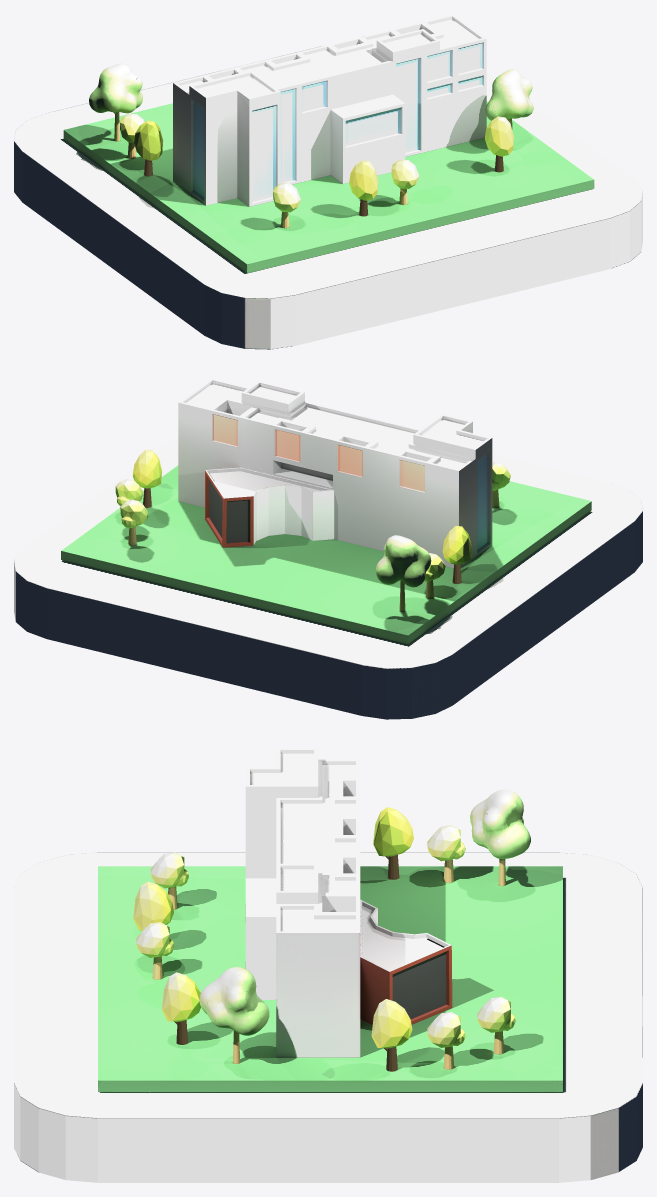
3 renders of one model, top to bottom at view 1: azimuth 30°, elevation 25°; view 2: azimuth 150°, elevation 25°; view 3: azimuth 270°, elevation 25°, orthographic. The views are drawn at different scales.
Parts seen in each view (by area): view 1: Cube, 文學院1, Cylinder.298, Cylinder.218; view 2: Cube, 文學院1, Cylinder.298, Cylinder.218; view 3: Cube, Cylinder.298, 文學院1, Cylinder.218.
Part boxes in pixels (x1=…): Cube: x1=14, y1=35, x2=642, y2=349; 文學院1: x1=173, y1=14, x2=486, y2=206; Cylinder.298: x1=63, y1=101, x2=594, y2=273; Cylinder.218: x1=89, y1=63, x2=533, y2=228; Cube: x1=14, y1=436, x2=642, y2=719; 文學院1: x1=178, y1=378, x2=492, y2=568; Cylinder.298: x1=61, y1=465, x2=591, y2=644; Cylinder.218: x1=115, y1=449, x2=510, y2=611; Cube: x1=14, y1=852, x2=642, y2=1182; Cylinder.298: x1=98, y1=866, x2=562, y2=1091; 文學院1: x1=245, y1=748, x2=452, y2=1057; Cylinder.218: x1=133, y1=789, x2=530, y2=1071.
Bounding box in the file's own units: 15 × 5.62 × 15.
13 materials, 12 textured.
